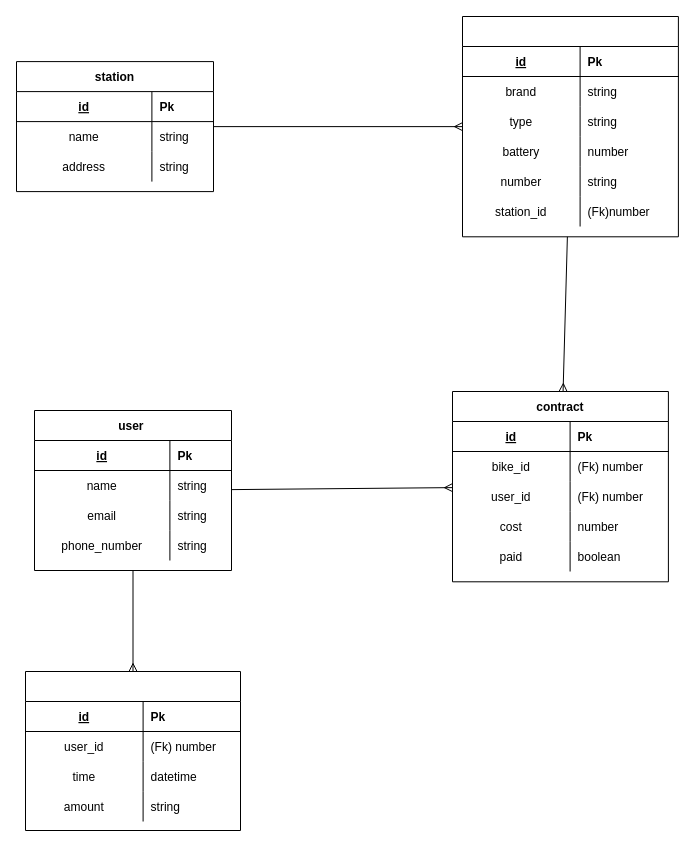
Image size: 695x847. Some labels were removed from this diagram. The box of each missing label's shape, as (x1, y1, x2, y2) in pixels:
bike: (462, 16, 678, 237)
transaction: (24, 670, 240, 830)
